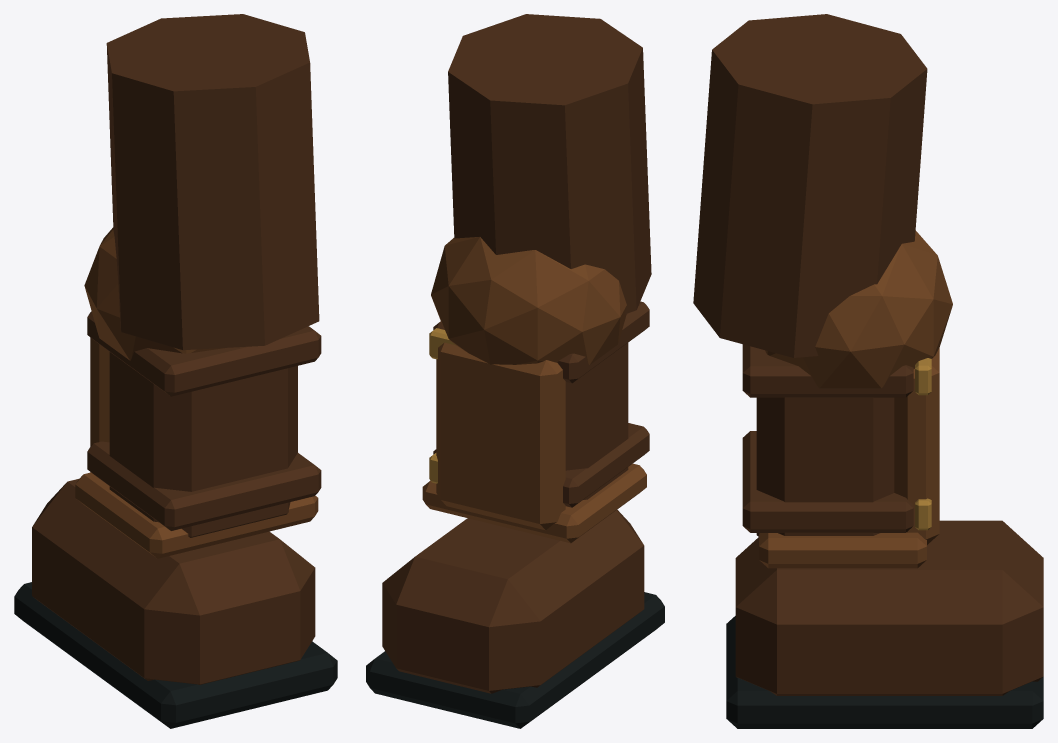
File: LegLeft.glb
3 views of the same model, side by side, from view 1: azimuth 30°, elevation 25°; view 2: azimuth 150°, elevation 25°; view 3: azimuth 270°, elevation 25° (orthographic). The views are drawn at different scales.
Visible parts, largest first — view 1: Sculpture; view 2: Sculpture; view 3: Sculpture.
Boxes of the visible parts, x1,y1,x2,y2 form: Sculpture: (14,14,337,728); Sculpture: (366,14,664,728); Sculpture: (693,14,1043,728).
Size of the model in its own units: 0.24 by 0.7542 by 0.3755.
